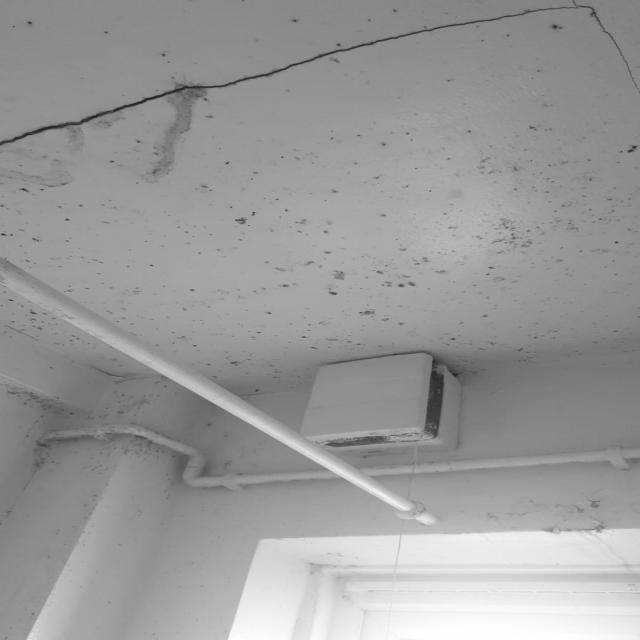stain marks: (0, 0, 640, 169), (3, 362, 267, 499), (242, 168, 464, 326), (465, 168, 640, 291), (0, 170, 144, 272), (147, 171, 240, 315), (188, 319, 414, 373), (452, 488, 630, 554), (471, 291, 640, 360), (0, 293, 85, 358), (72, 274, 160, 334), (419, 332, 472, 366)
